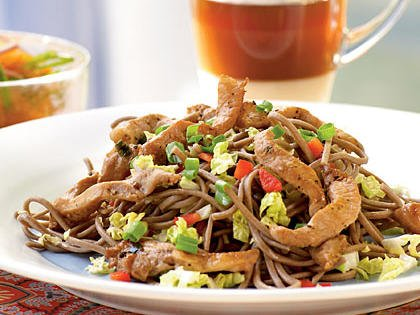Soba: (32, 106, 420, 296)
